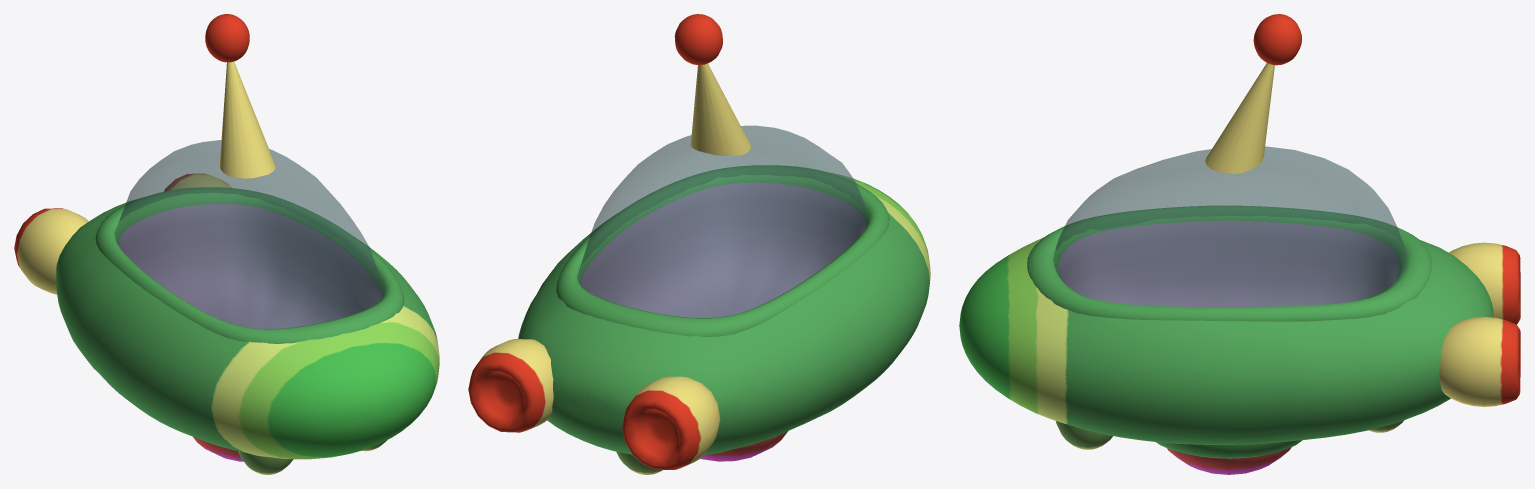
The model's file is UFO.fbx.
3 renders of one model, left to right at view 1: azimuth 30°, elevation 25°; view 2: azimuth 150°, elevation 25°; view 3: azimuth 270°, elevation 25°, orthographic. The views are drawn at different scales.
Visible parts, largest first — view 1: body, mado; view 2: body, mado; view 3: body, mado.
Part boxes in pixels (x1,y1,x2,y2): body: [14, 14, 439, 474]; mado: [114, 140, 384, 328]; body: [468, 14, 930, 474]; mado: [577, 125, 867, 317]; body: [959, 14, 1520, 474]; mado: [1053, 146, 1407, 306].
Size of the model in its own units: 32.67 by 46.61 by 52.63.
